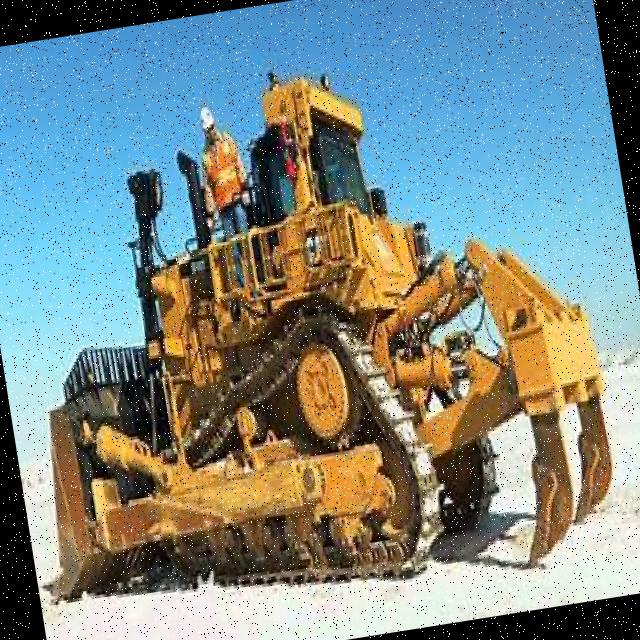Bulldozer: (0, 17, 636, 640)
